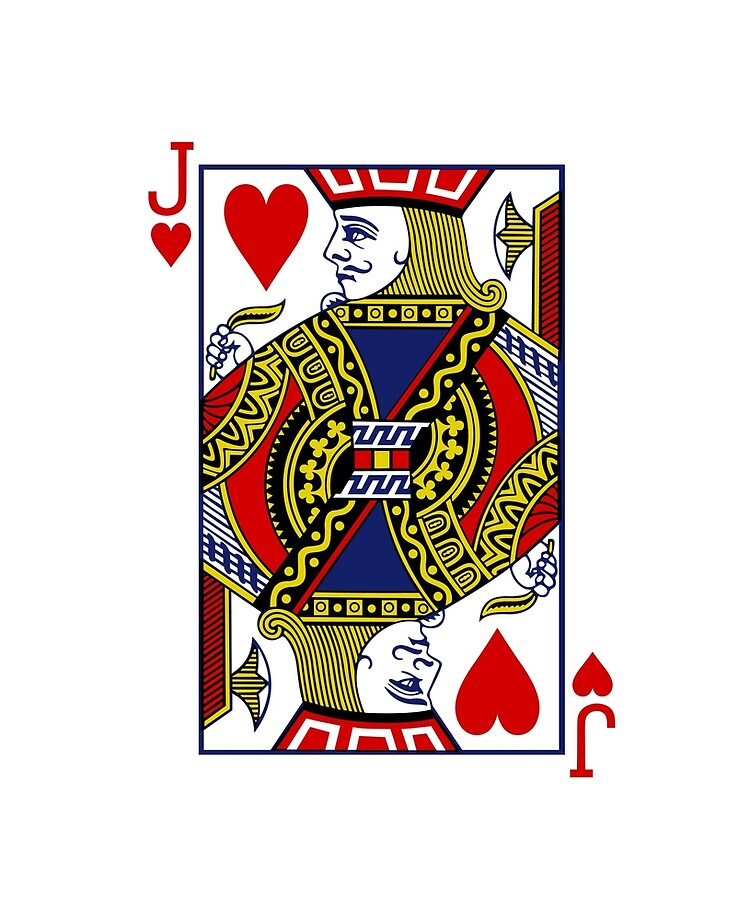jack of hearts: (126, 111, 645, 818)
